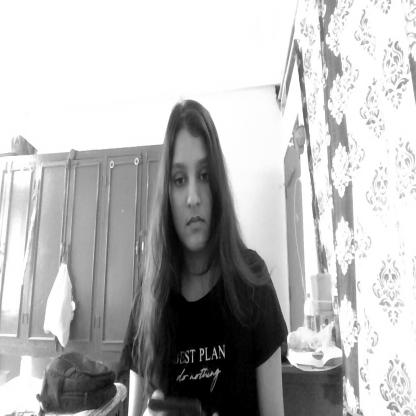Normal: (161, 99, 228, 258)
